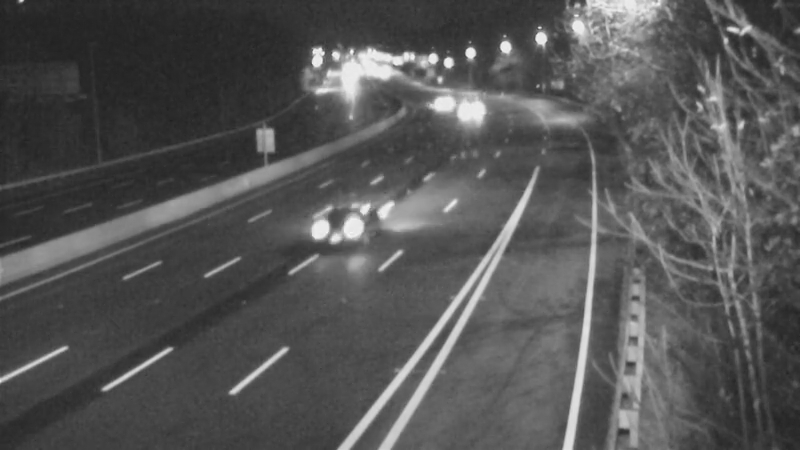vehicle: (310, 185, 390, 265), (414, 78, 464, 128), (445, 85, 495, 135)
